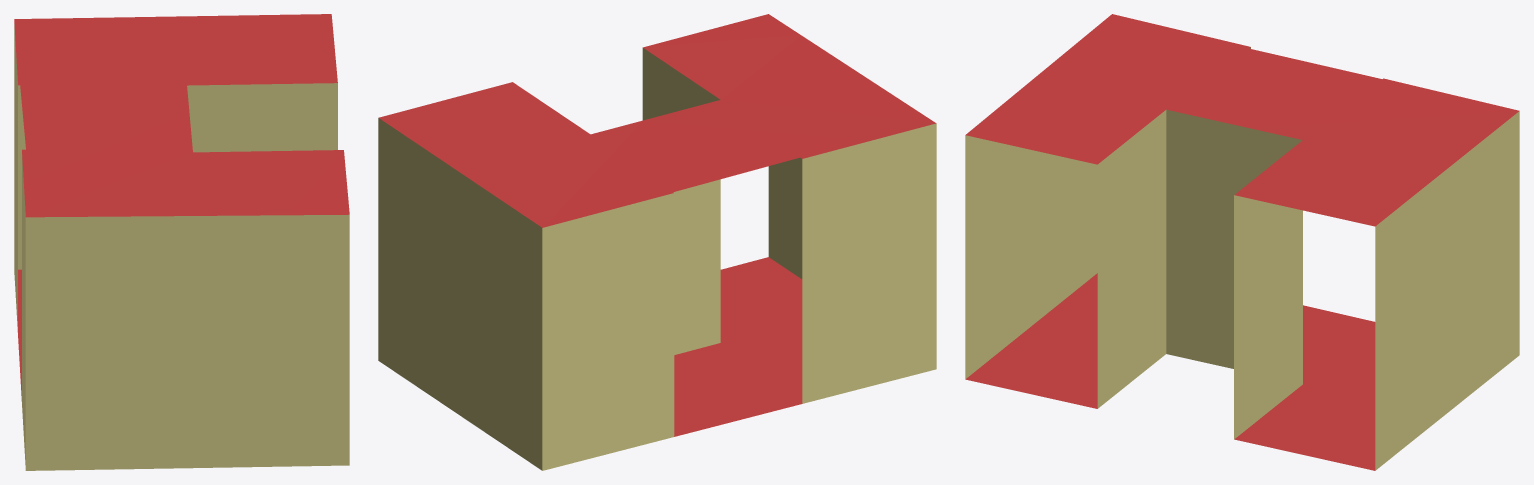
The picture shows the model from 3 angles, left to right: view 1: azimuth 30°, elevation 25°; view 2: azimuth 150°, elevation 25°; view 3: azimuth 270°, elevation 25°; orthographic projection. The views are drawn at different scales.
Visible parts, largest first — view 1: group_4, group_3, group_5; view 2: group_4, group_3, group_5; view 3: group_4, group_3, group_5.
Boxes of the visible parts, x1,y1,x2,y2 form: group_4: [14, 24, 349, 470]; group_3: [14, 14, 349, 217]; group_5: [18, 269, 21, 401]; group_4: [378, 48, 936, 470]; group_3: [379, 14, 936, 227]; group_5: [674, 257, 802, 436]; group_4: [965, 47, 1519, 470]; group_3: [965, 14, 1519, 226]; group_5: [965, 273, 1375, 470].
Size of the model in its own units: 15.58 by 17.42 by 8.57.
